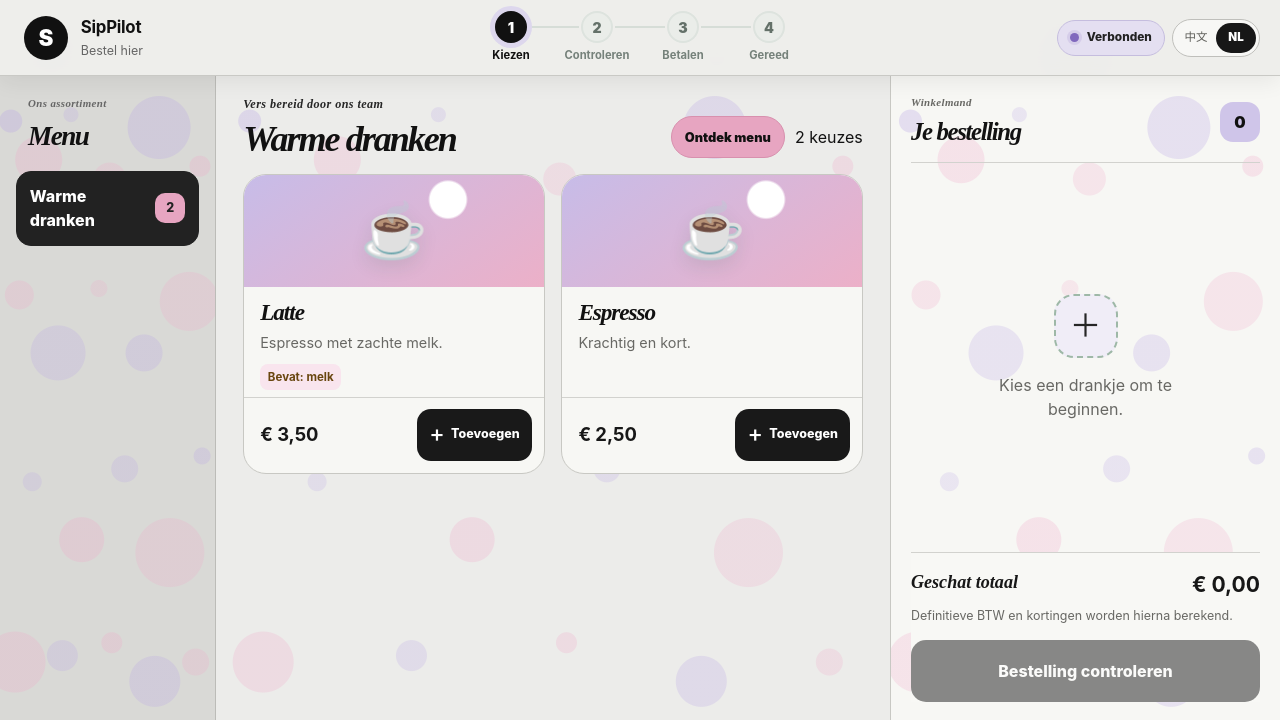
Customer kiosk ordering workflow › validates required product options before adding a line
This screenshot has width=1280, height=720.
Check: the heading "Warme dranken" is shown, box top-left (243, 121), bottom-right (456, 158)
Click the button with aria-label "Latte toevoegen".
click(474, 435)  # box top-left (417, 409), bottom-right (532, 461)
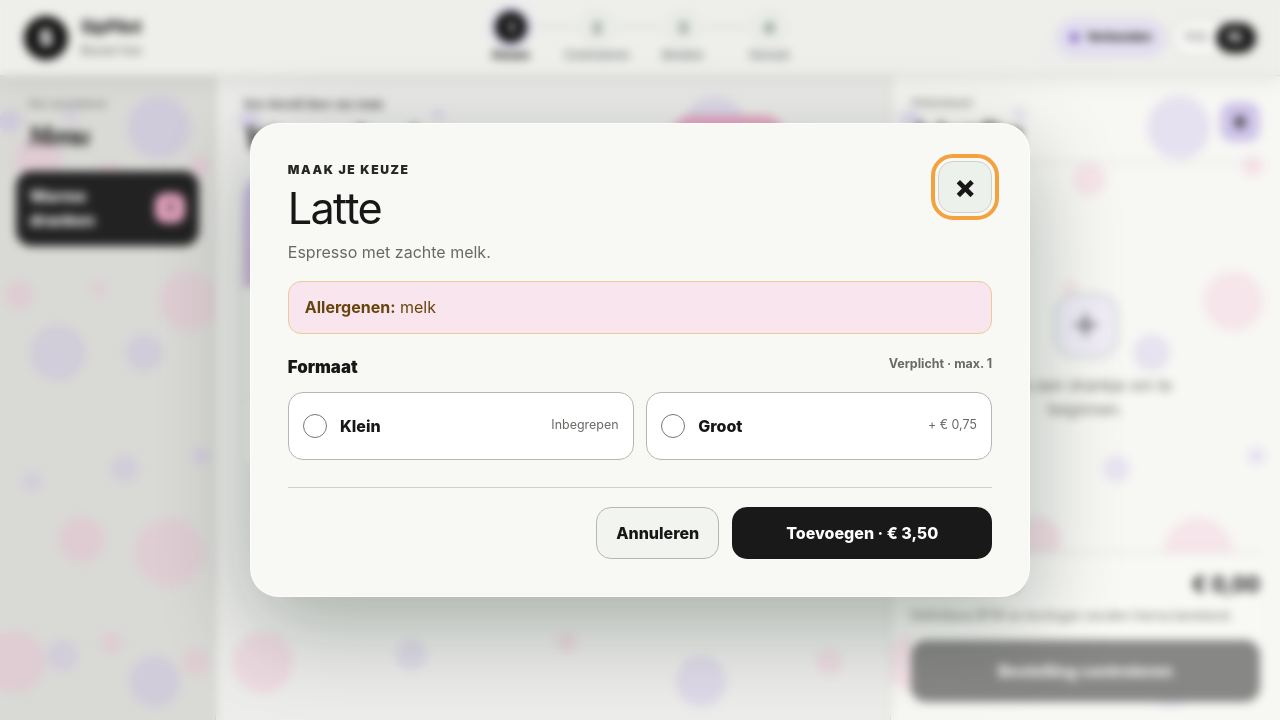
Click the button "Toevoegen · € 3,50".
click(862, 533)  # box top-left (732, 507), bottom-right (992, 559)
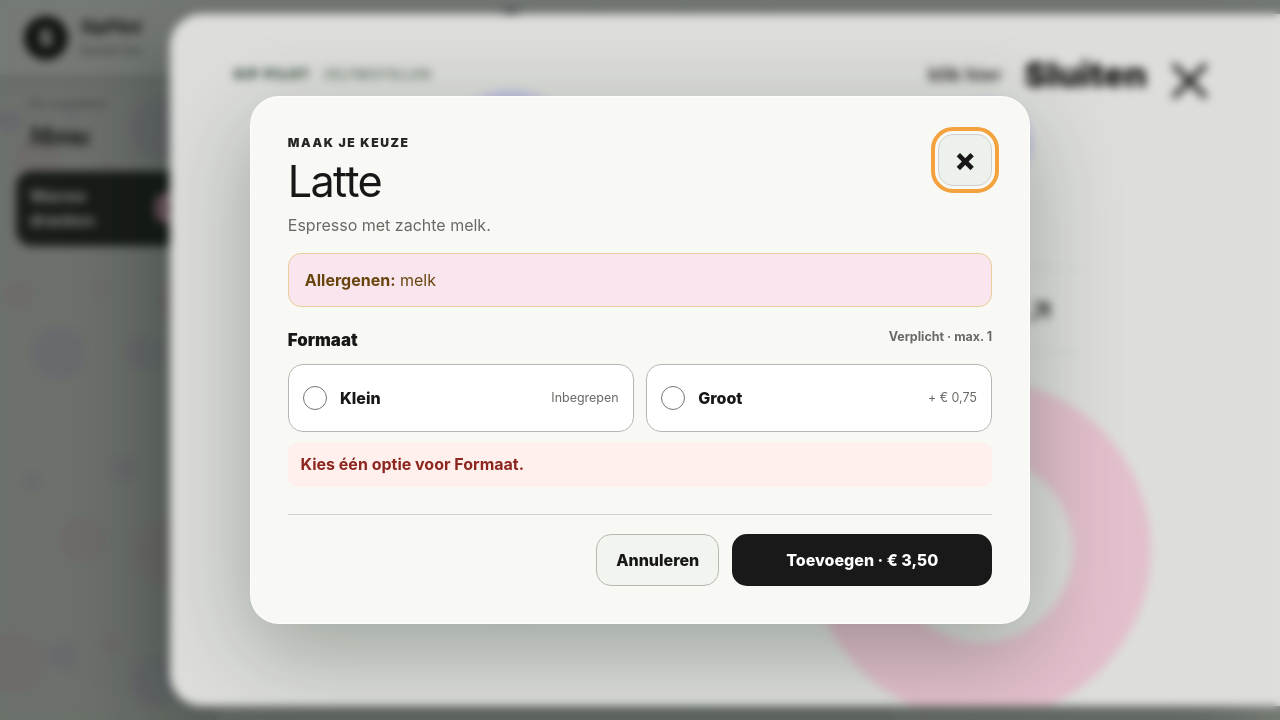
Check: the dialog "Latte" is shown, box top-left (250, 96), bottom-right (1030, 624)
Check: the message reads "Kies één optie voor Formaat.", box top-left (301, 454), bottom-right (524, 474)
